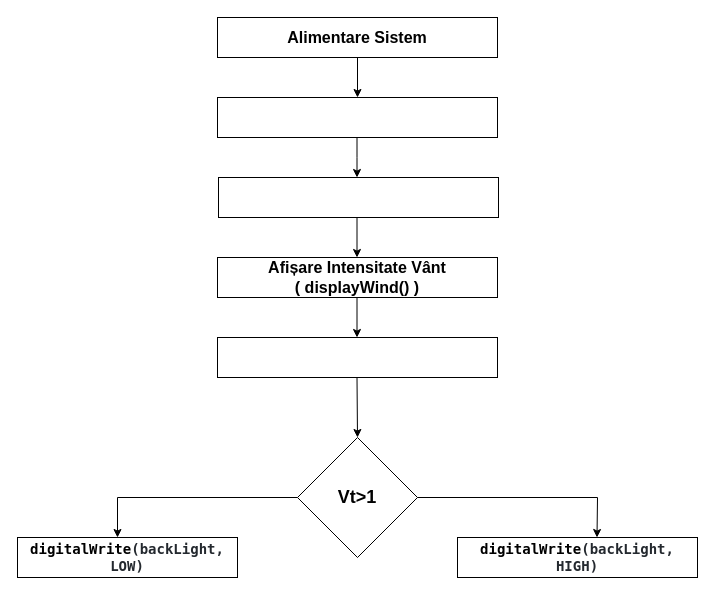
Some shapes in this 715 by 595 pixel diagram are drawn without their labels. Here are the shapes that lost their labels. From the top down, the box of each, then its label:
(216, 96, 498, 138): Inițializare LCD
(218, 176, 498, 218): Afișare Lumină( displayLight() )
(216, 336, 498, 378): Calcul viteză totală vânt+lumină(Vt)
